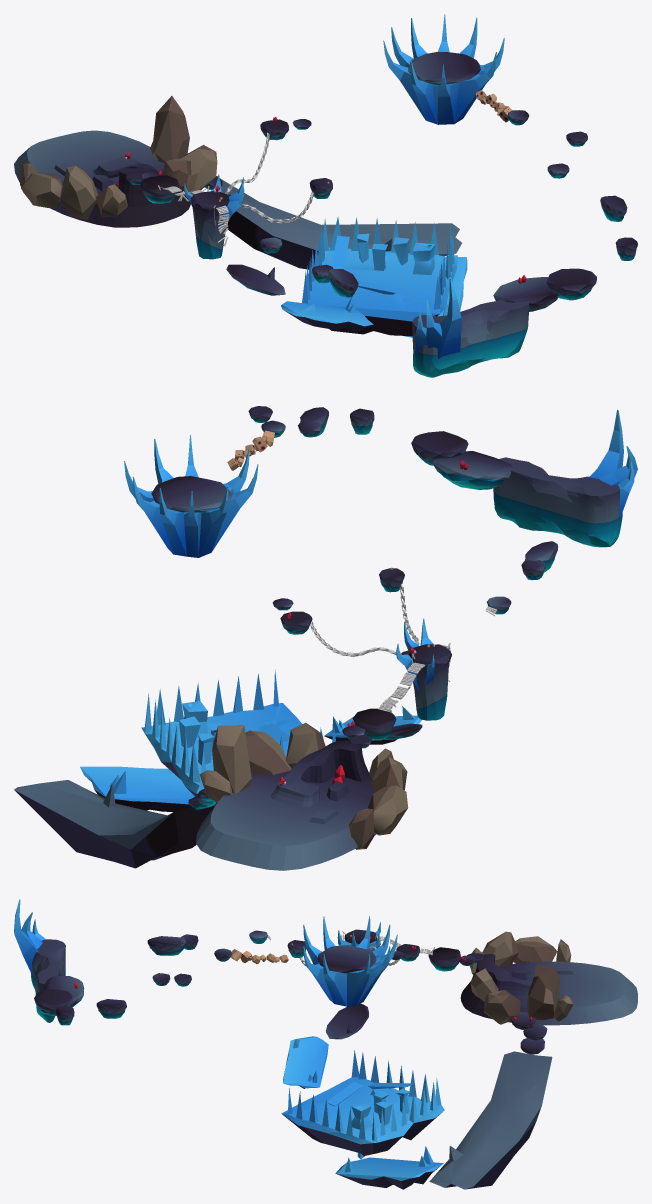
File: CaveMesh.fbx
3 views of the same model, one above another, from view 1: azimuth 30°, elevation 25°; view 2: azimuth 150°, elevation 25°; view 3: azimuth 270°, elevation 25° (orthographic). The views are drawn at different scales.
Parts seen in each view (by area): view 1: Plane.006, Plane.089, Plane.203, Plane.086, Plane.010, Plane.092, Plane.161, Plane.199, Plane.095, Plane.087, Plane.168, Plane.088 (+13 smaller); view 2: Plane.089, Plane.203, Plane.086, Plane.006, Plane.204, Plane.010, Plane.087, Plane.161, Plane.092, Plane.168, Plane.093, Plane.090 (+12 smaller); view 3: Plane.006, Plane.203, Plane.089, Plane.204, Plane.199, Plane.092, Plane.086, Plane.166, Plane.161, Plane.200, Plane.093, Plane.090 (+10 smaller).
Part boxes in pixels (box(x1,y1,x2,y2)): Plane.006: box(302, 216, 457, 336); Plane.089: box(14, 130, 190, 227); Plane.203: box(220, 178, 461, 269); Plane.086: box(412, 300, 529, 377); Plane.010: box(190, 191, 229, 259); Plane.092: box(152, 96, 189, 163); Plane.161: box(408, 52, 480, 84); Plane.199: box(281, 296, 373, 332); Plane.095: box(60, 165, 97, 219); Plane.087: box(493, 277, 558, 311); Plane.168: box(383, 40, 437, 124); Plane.088: box(546, 268, 596, 300); Plane.089: box(196, 740, 376, 870); Plane.203: box(14, 780, 216, 868); Plane.086: box(493, 457, 622, 547); Plane.006: box(141, 669, 335, 796); Plane.204: box(80, 766, 194, 811); Plane.010: box(408, 644, 451, 720); Plane.087: box(432, 451, 512, 489); Plane.161: box(151, 476, 232, 512); Plane.092: box(212, 725, 251, 793); Plane.168: box(198, 464, 258, 557); Plane.093: box(245, 730, 291, 776); Plane.090: box(367, 785, 408, 835); Plane.006: box(281, 1050, 444, 1159); Plane.203: box(429, 1051, 552, 1189); Plane.089: box(460, 954, 637, 1025); Plane.204: box(335, 1146, 443, 1189); Plane.199: box(283, 1036, 328, 1088); Plane.092: box(527, 965, 559, 1019); Plane.086: box(30, 939, 65, 1022); Plane.166: box(323, 954, 370, 1006); Plane.161: box(317, 945, 376, 973); Plane.200: box(326, 1003, 369, 1039); Plane.093: box(484, 989, 520, 1024); Plane.090: box(514, 936, 557, 963).
Size of the model in its own units: 9026 by 6577 by 14996.
